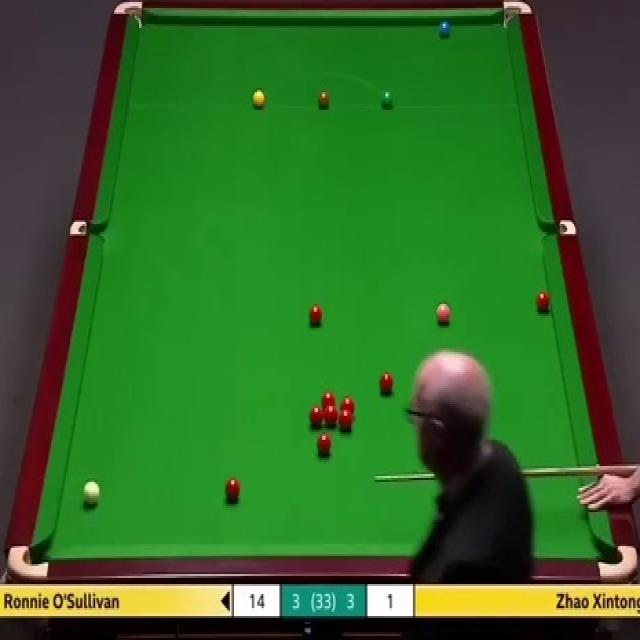pocket: (597, 542, 640, 584), (4, 545, 51, 580), (500, 0, 534, 32), (111, 0, 145, 29), (68, 221, 104, 237), (542, 220, 576, 235)
